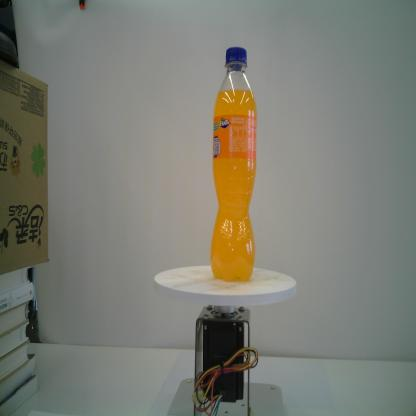Drink: (209, 44, 259, 284)
